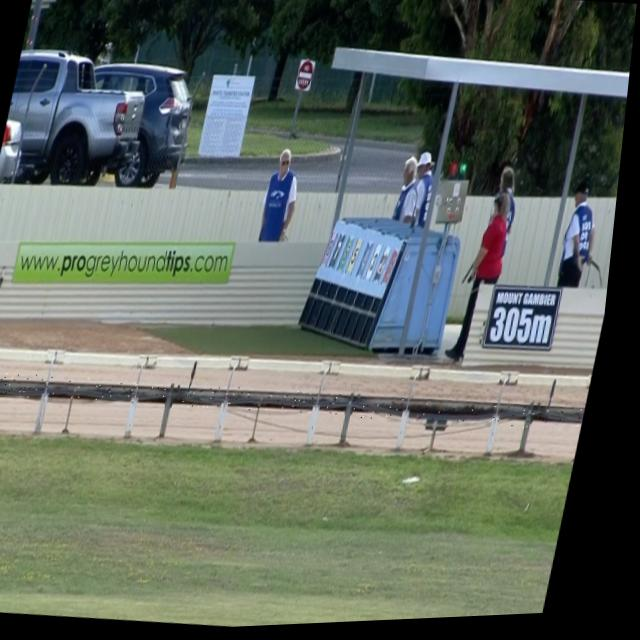rail: (0, 382, 594, 432)
